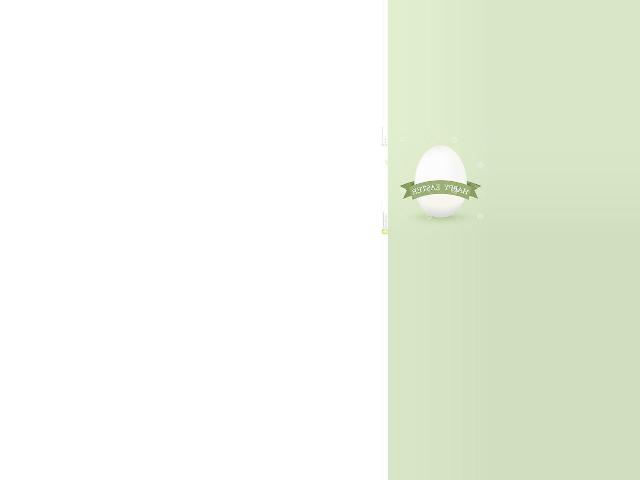egg: (413, 145, 465, 217)
